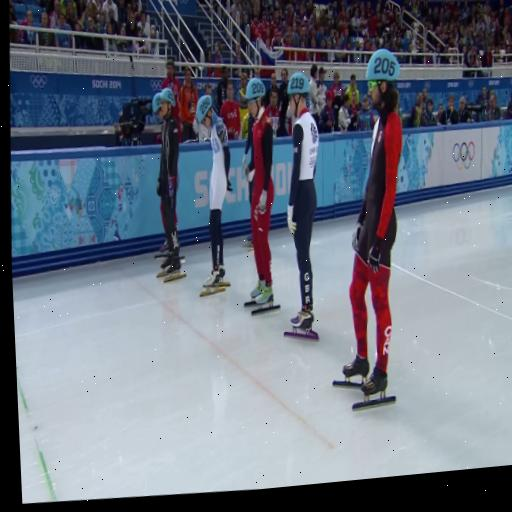Skater: (334, 49, 402, 409), (284, 73, 319, 340), (245, 78, 279, 315), (196, 95, 231, 296), (153, 88, 185, 282)
